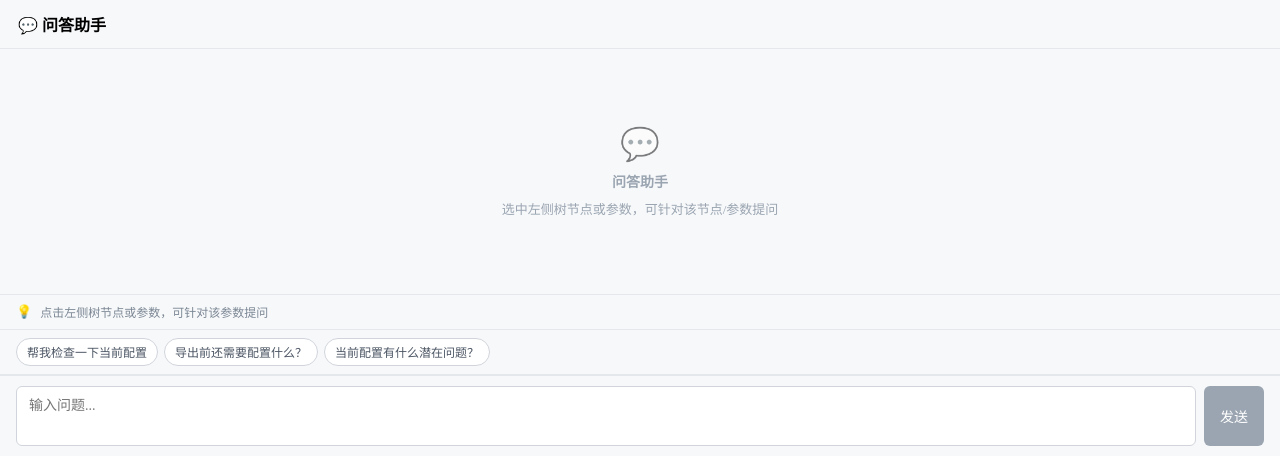
Test: QAPanel › loading placeholder (proposal-0012) › shows loading bubble after sending question
Type "hello" into the text box with placeholder "输入问题...". click: (606, 416)
box: [16,386,1196,446]
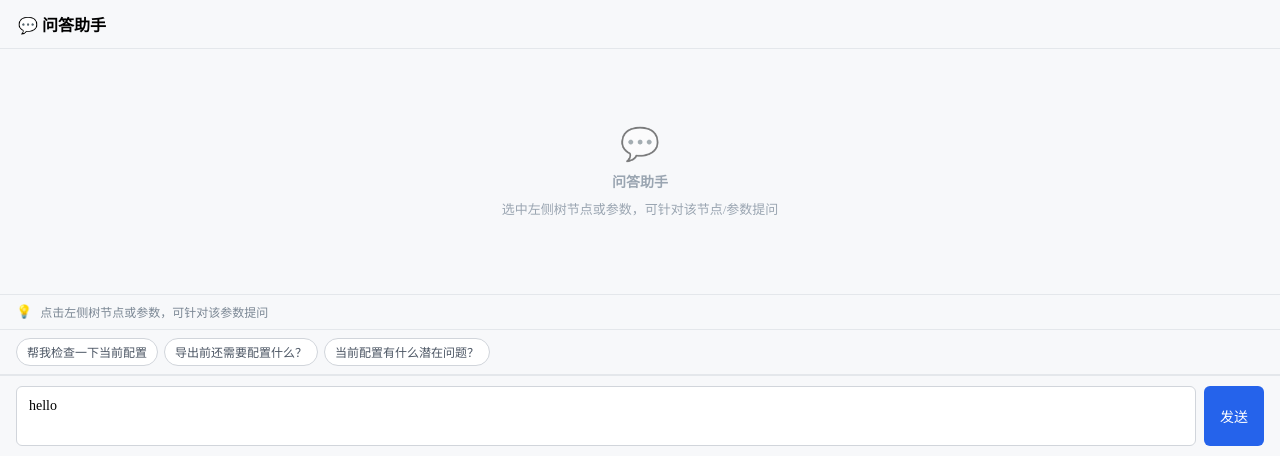
Press Enter in the text box, box [16,386,1196,446]
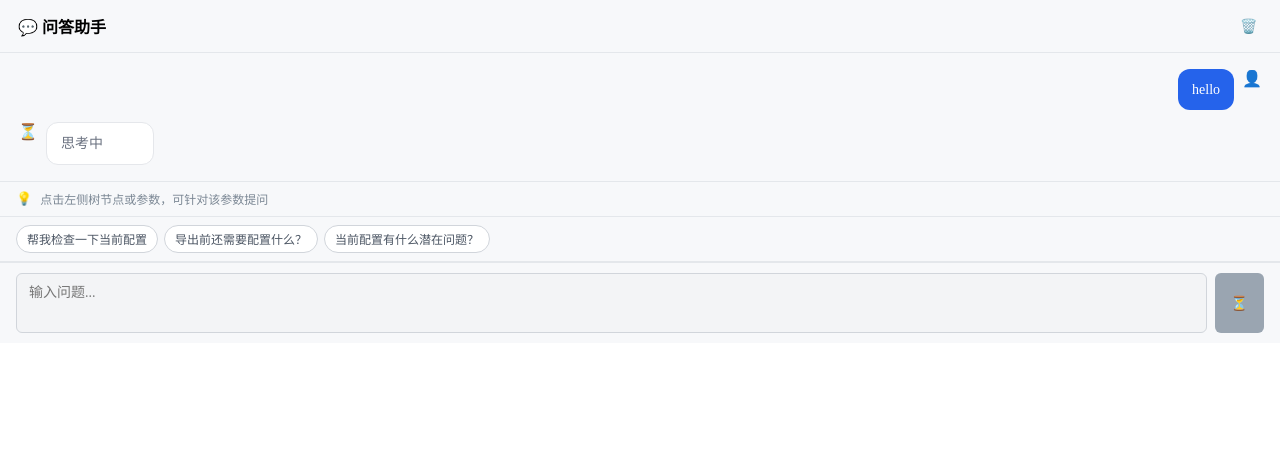
Check: the element with class "loading-bubble" is shown, box [46,122,154,165]
Check: the text "思考中" is shown, box [61,133,103,154]
Check: the text "⏳" is shown, box [18,122,38,141]
